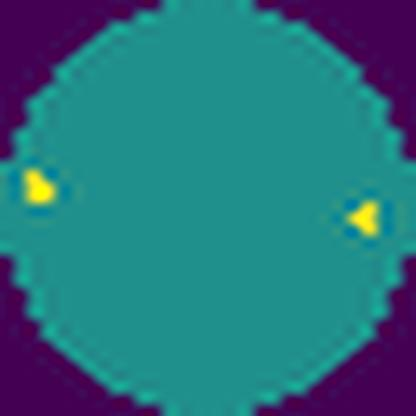Loc: (24, 170, 58, 206), (346, 200, 379, 237)
